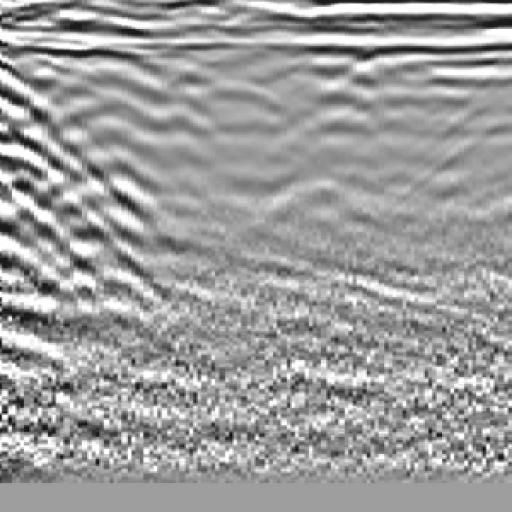metalic: (268, 42, 422, 298)
nonmetalic: (1, 56, 122, 310)
